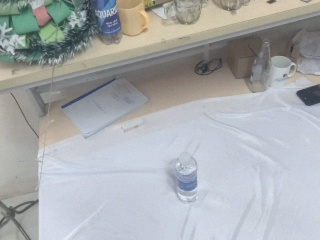bottle: (246, 40, 272, 93), (92, 1, 123, 45), (175, 152, 199, 203)
cup: (117, 1, 150, 37), (268, 56, 297, 88), (164, 1, 202, 25)
phone: (296, 84, 320, 106)
